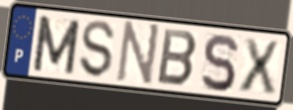B: (155, 27, 200, 89)
M: (30, 13, 83, 77)
N: (113, 19, 163, 89)
S: (199, 32, 240, 94), (78, 19, 117, 81)
X: (237, 36, 280, 96)
